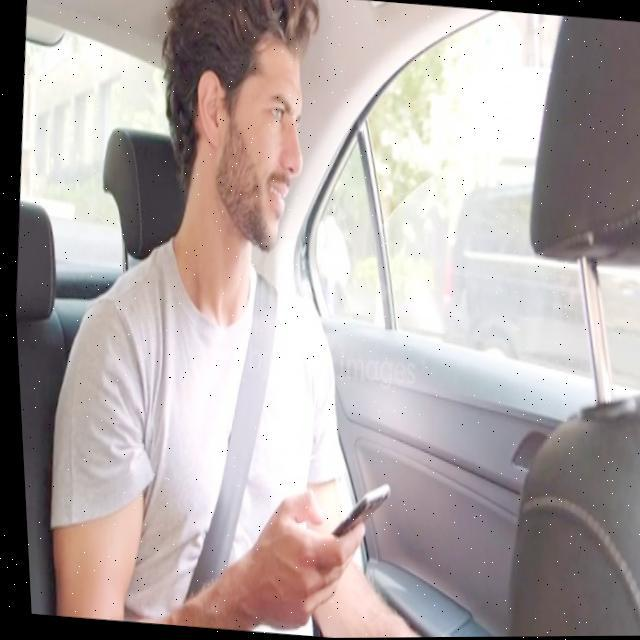PhoneCall: (310, 477, 388, 550)
